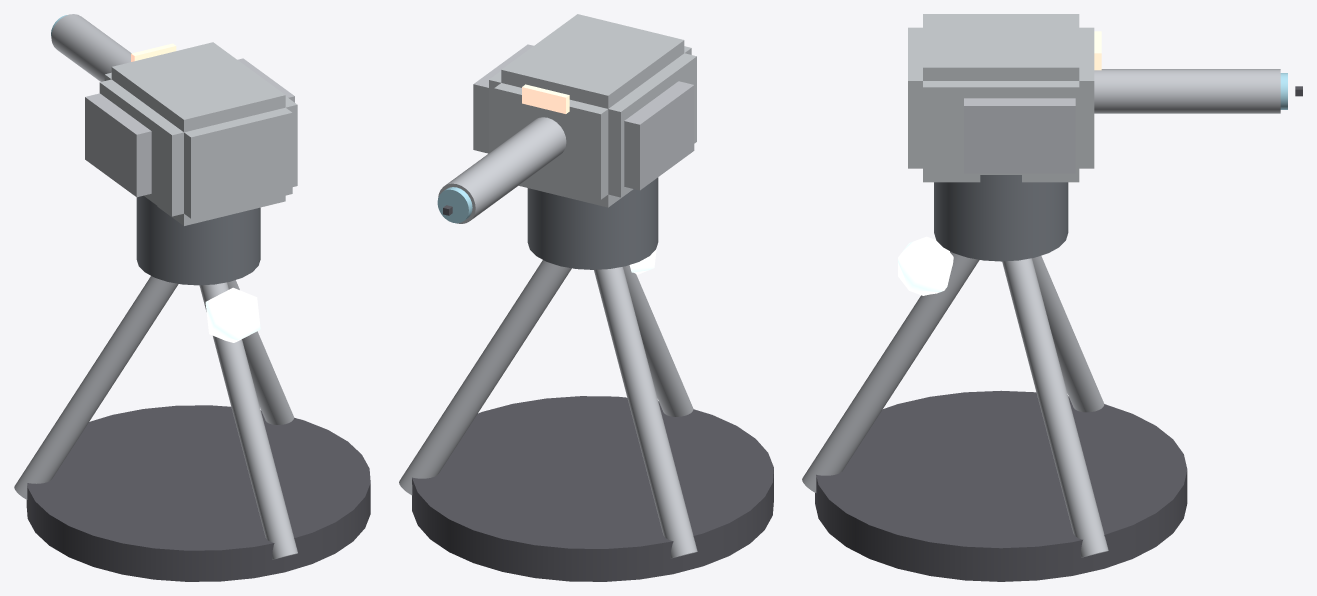
File: base_turret_1.fbx
3 views of the same model, side by side, from view 1: azimuth 30°, elevation 25°; view 2: azimuth 150°, elevation 25°; view 3: azimuth 270°, elevation 25° (orthographic). The views are drawn at different scales.
Parts seen in each view (by area): view 1: base_turret_1, Aim_Y_Head, Indicator; view 2: base_turret_1, Aim_Y_Head; view 3: base_turret_1, Aim_Y_Head, Indicator.
Boxes of the visible parts, left/top/right/bottom form: base_turret_1: left=14, top=195, right=370, bottom=581; Aim_Y_Head: left=51, top=14, right=297, bottom=225; Indicator: left=205, top=287, right=260, bottom=342; base_turret_1: left=399, top=177, right=773, bottom=581; Aim_Y_Head: left=437, top=14, right=696, bottom=223; base_turret_1: left=802, top=175, right=1187, bottom=581; Aim_Y_Head: left=908, top=14, right=1287, bottom=182; Indicator: left=898, top=236, right=953, bottom=295.
Bounding box in the file's own units: 1 × 1.37 × 1.34.
